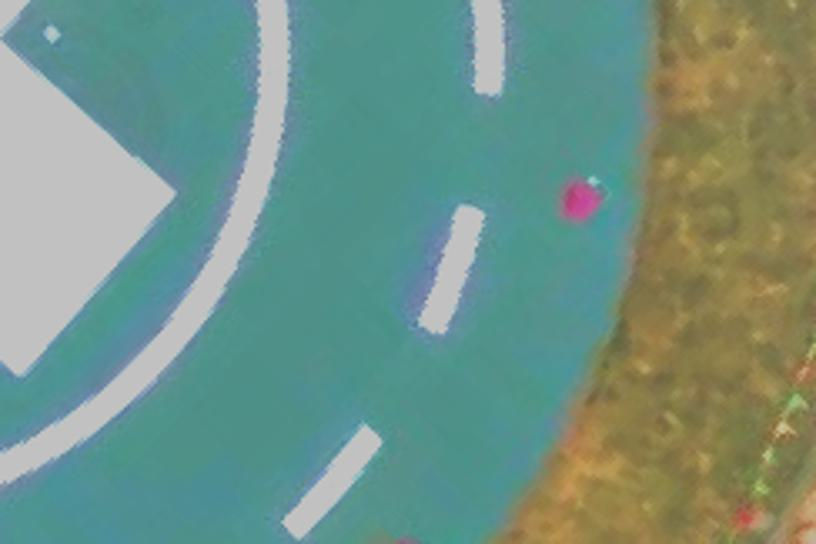Apron: (1, 1, 306, 501)
